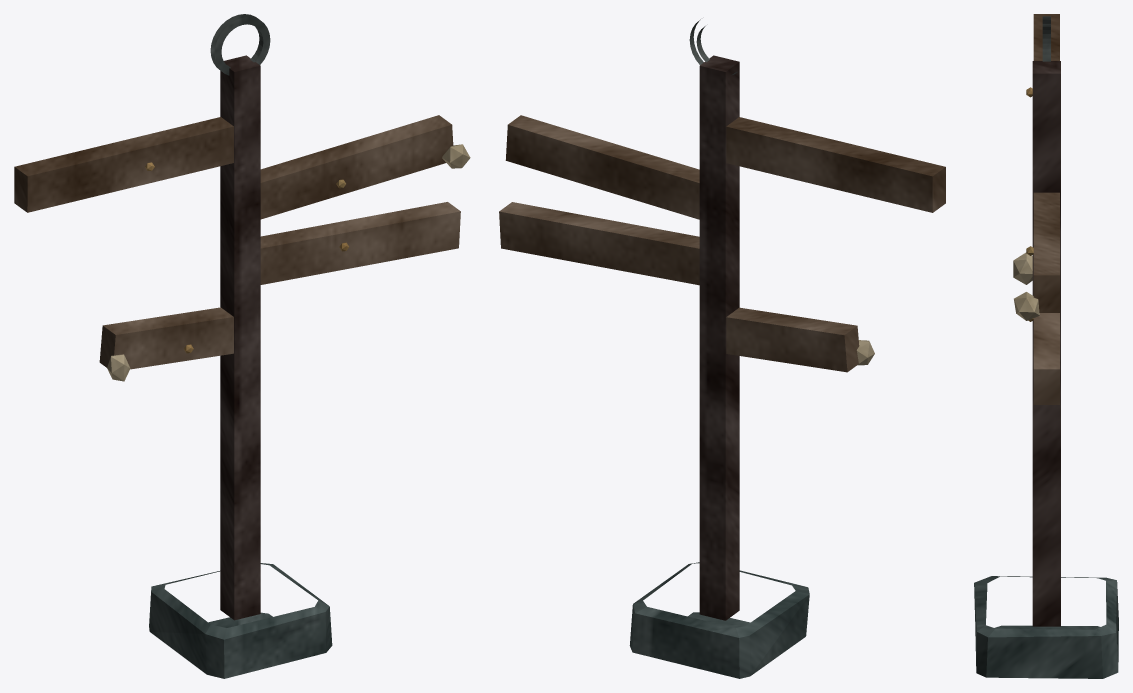
File: 0636_signpost_11.glb
3 views of the same model, side by side, from view 1: azimuth 30°, elevation 25°; view 2: azimuth 150°, elevation 25°; view 3: azimuth 270°, elevation 25° (orthographic).
Visible parts, largest first — view 1: wood, wood_dark, stone_dark, iron, bone; view 2: wood, wood_dark, stone_dark; view 3: wood_dark, stone_dark, wood, bone, iron.
Boxes of the visible parts, box(x1,y1,x2,y2) form: wood: box(14, 115, 460, 369); wood_dark: box(220, 55, 260, 620); stone_dark: box(149, 563, 332, 678); iron: box(210, 14, 270, 75); bone: box(107, 144, 470, 381); wood: box(499, 115, 945, 372); wood_dark: box(699, 55, 739, 620); stone_dark: box(629, 562, 809, 678); wood_dark: box(1032, 61, 1060, 626); stone_dark: box(974, 576, 1118, 678); wood: box(1033, 14, 1059, 404); bone: box(1013, 252, 1039, 320); iron: box(1042, 16, 1050, 61).
Size of the model in its own units: 2.5 by 3.43 by 0.713.
6 materials, 6 textured.
